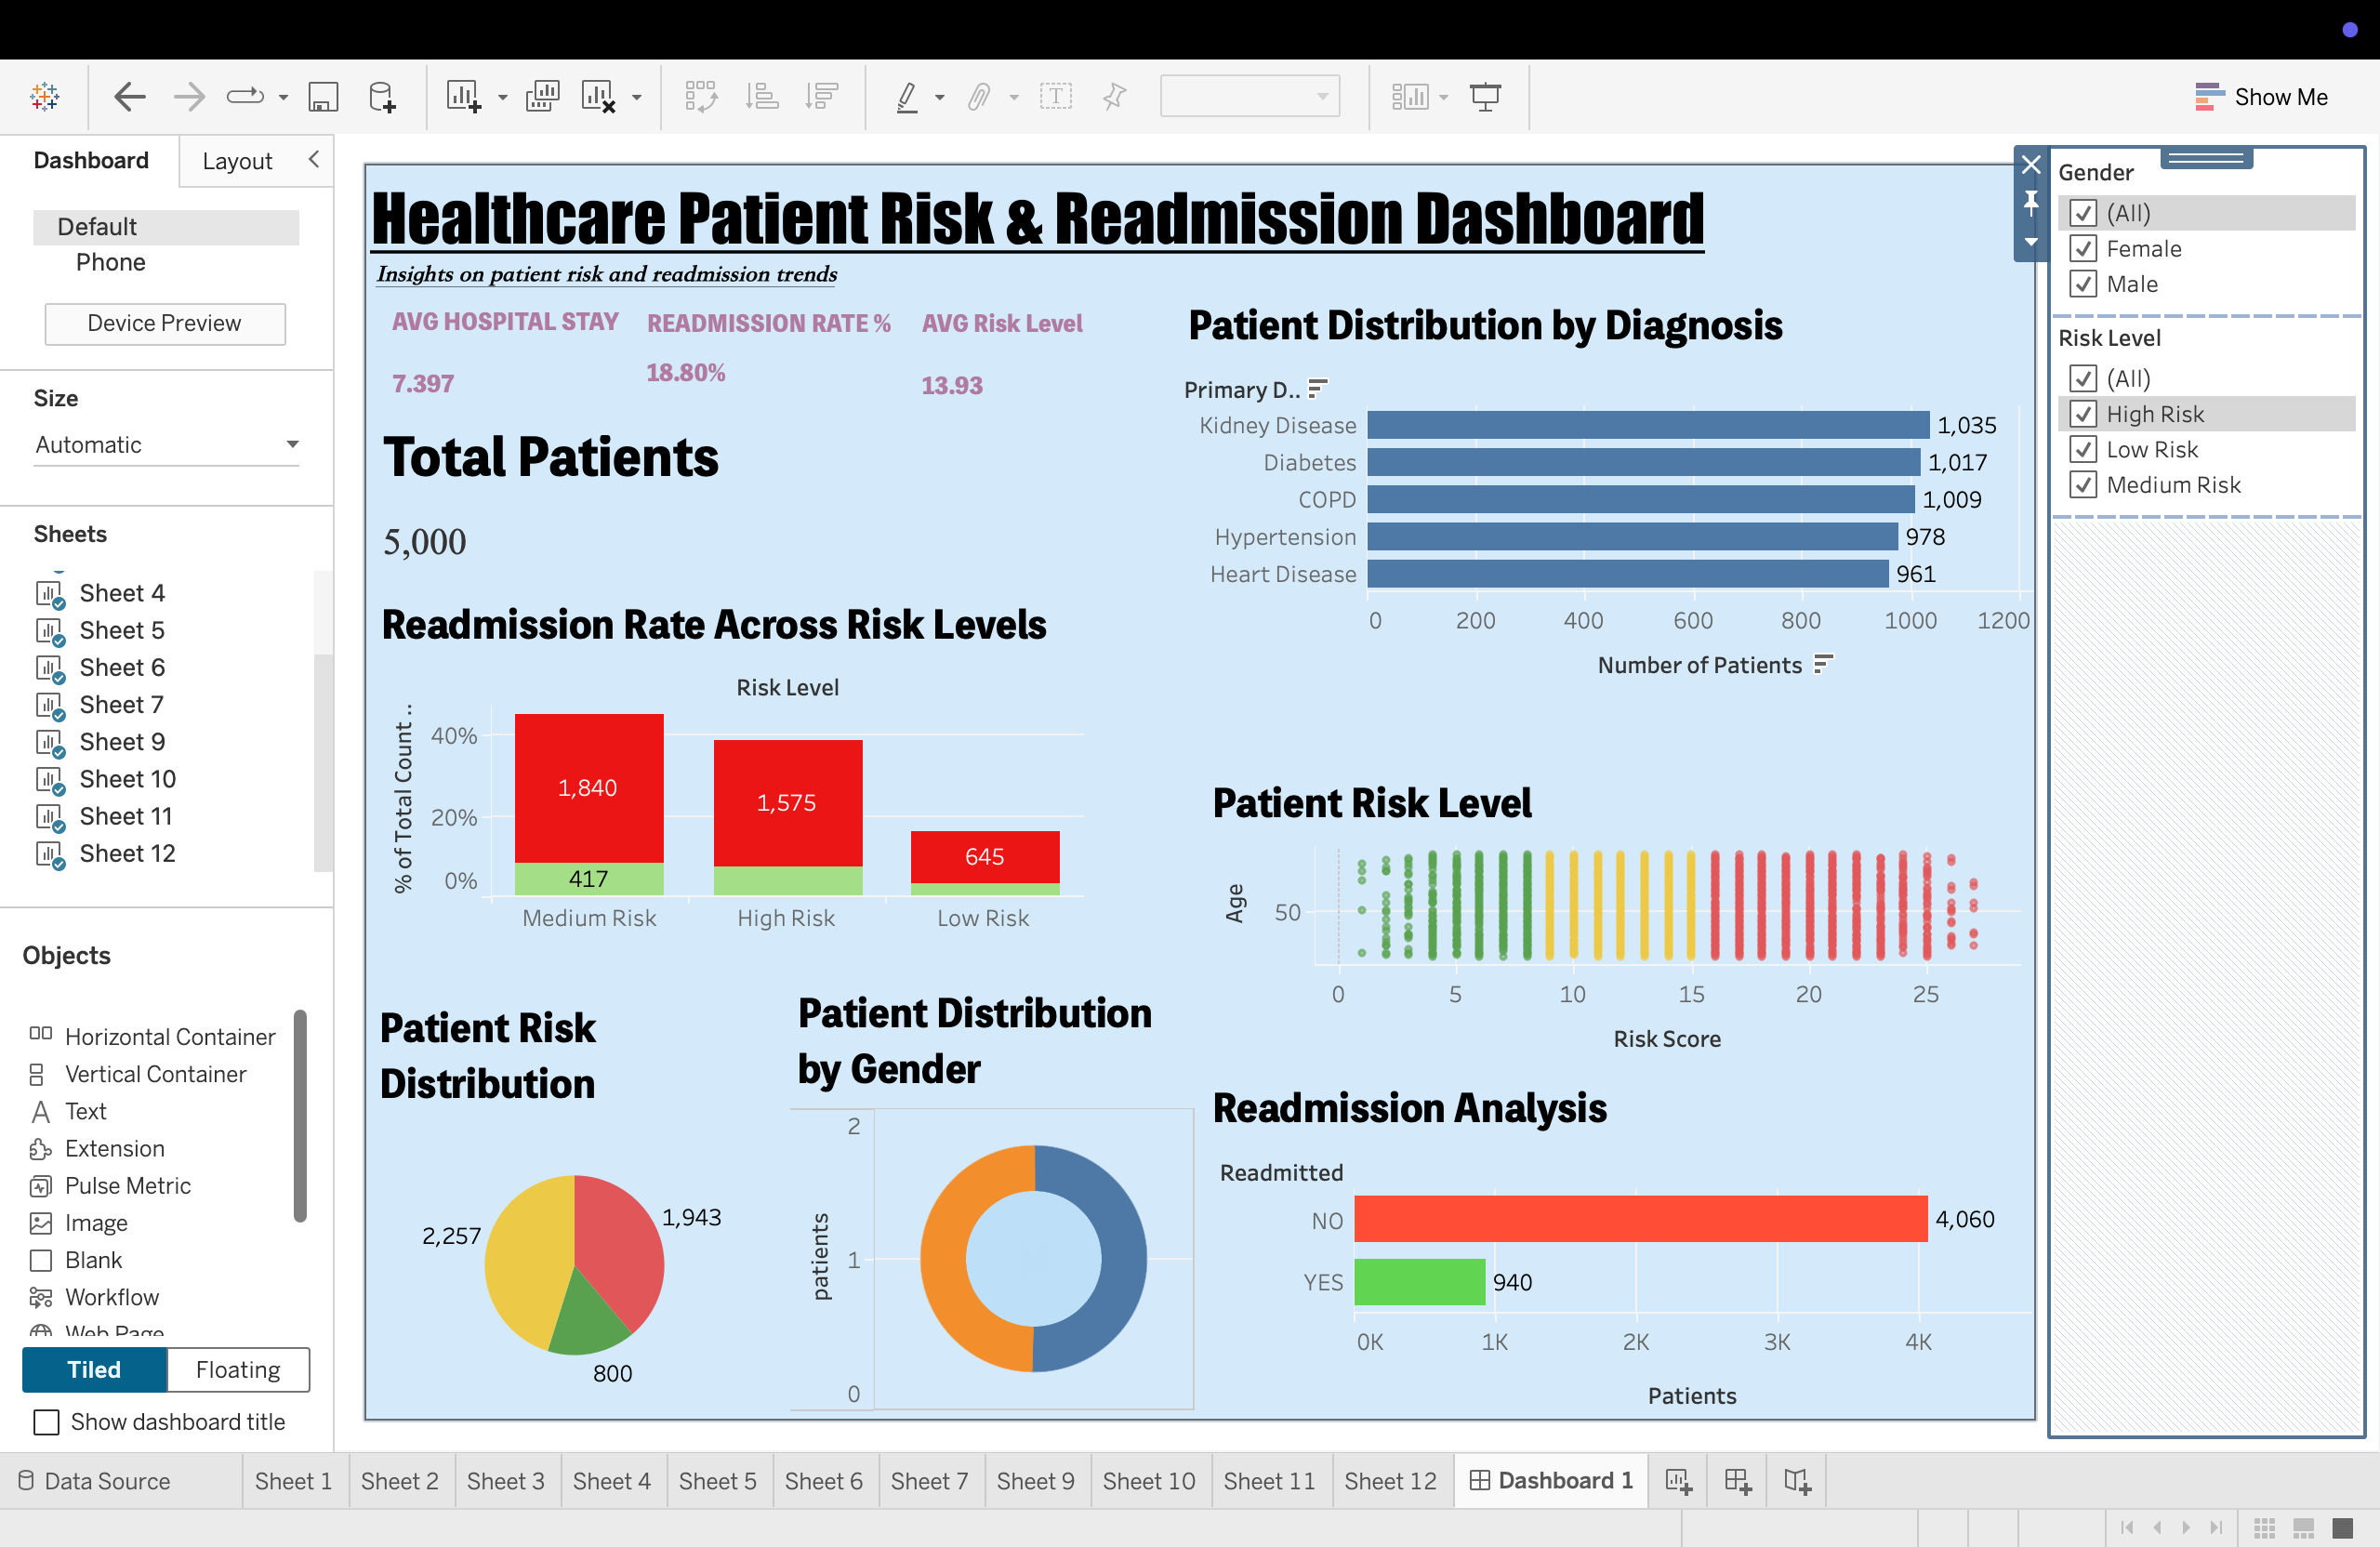

What the dashboard file says about the page in this screenshot:
{"tool":"tableau","page":{"name":"Dashboard 1","canvas":[1000,1000],"units":"permille","ordinal":0},"visuals":[{"type":"filter","title":"Sheet 12","param":"[federated.0s16r190hq9wn11109jg81erks3k].[none:gender:nk]","box":[839.9,11.3,152.9,125.7]},{"type":"text","box":[15.5,26.6,664.2,74.8]},{"type":"worksheet","title":"Sheet 12","mark":"Automatic","box":[16.4,88,333,48.2]},{"type":"worksheet","title":"Sheet 9","mark":"Automatic","box":[24.6,127.9,121,84.7]},{"type":"worksheet","title":"Sheet 2","mark":"Automatic","rows":["primary_diagnosi"],"cols":["SQLite-3.csv_8DA1BE36756A4F39A1A4F6CEAA78AC53"],"box":[414,127.9,417.7,348.8]},{"type":"worksheet","title":"Sheet 10","mark":"Automatic","box":[149.2,129.6,139.2,116.3]},{"type":"worksheet","title":"Sheet 11","mark":"Automatic","box":[283.9,129.6,124.7,84.7]},{"type":"filter","title":"Sheet 12","param":"[federated.0s16r190hq9wn11109jg81erks3k].[none:risk_level:nk]","box":[839.9,137,152.9,152.5]},{"type":"worksheet","title":"Sheet 1","mark":"Automatic","box":[20,229.2,175.6,104.7]},{"type":"worksheet","title":"Sheet 7","mark":"Bar","rows":["SQLite-3.csv_8DA1BE36756A4F39A1A4F6CEAA78AC53"],"cols":["risk_level"],"box":[19.1,355.5,347.6,279.1]},{"type":"worksheet","title":"Sheet 4","mark":"Automatic","rows":["age"],"cols":["risk_score"],"box":[425.8,491.7,399.4,217.6]},{"type":"worksheet","title":"Sheet 6","mark":"Pie","rows":["SQLite-3.csv_8DA1BE36756A4F39A1A4F6CEAA78AC53","SQLite-3.csv_8DA1BE36756A4F39A1A4F6CEAA78AC53"],"box":[222.9,647.8,198.4,322.3]},{"type":"worksheet","title":"Sheet 3","mark":"Pie","box":[18.2,659.5,198.4,307.3]},{"type":"worksheet","title":"Sheet 5","mark":"Automatic","rows":["readmitted"],"cols":["SQLite-3.csv_8DA1BE36756A4F39A1A4F6CEAA78AC53"],"box":[425.8,722.6,404.9,247.5]}]}

Visuals, with their boxes on the dashboard's canvas, which has no fixed pixel size, in thousandths of its width and height (x1, y1, x2, y2). These are canvas units, not pixel positions in the 2380x1547 screenshot, which may show the page scaled, cropped or inside an application window:
"Sheet 12" filter: box=[840, 11, 993, 137]
text: box=[16, 27, 680, 101]
"Sheet 12" worksheet: box=[16, 88, 349, 136]
"Sheet 9" worksheet: box=[25, 128, 146, 213]
"Sheet 2" worksheet: box=[414, 128, 832, 477]
"Sheet 10" worksheet: box=[149, 130, 288, 246]
"Sheet 11" worksheet: box=[284, 130, 409, 214]
"Sheet 12" filter: box=[840, 137, 993, 290]
"Sheet 1" worksheet: box=[20, 229, 196, 334]
"Sheet 7" worksheet (Bar marks): box=[19, 356, 367, 635]
"Sheet 4" worksheet: box=[426, 492, 825, 709]
"Sheet 6" worksheet (Pie marks): box=[223, 648, 421, 970]
"Sheet 3" worksheet (Pie marks): box=[18, 660, 217, 967]
"Sheet 5" worksheet: box=[426, 723, 831, 970]
